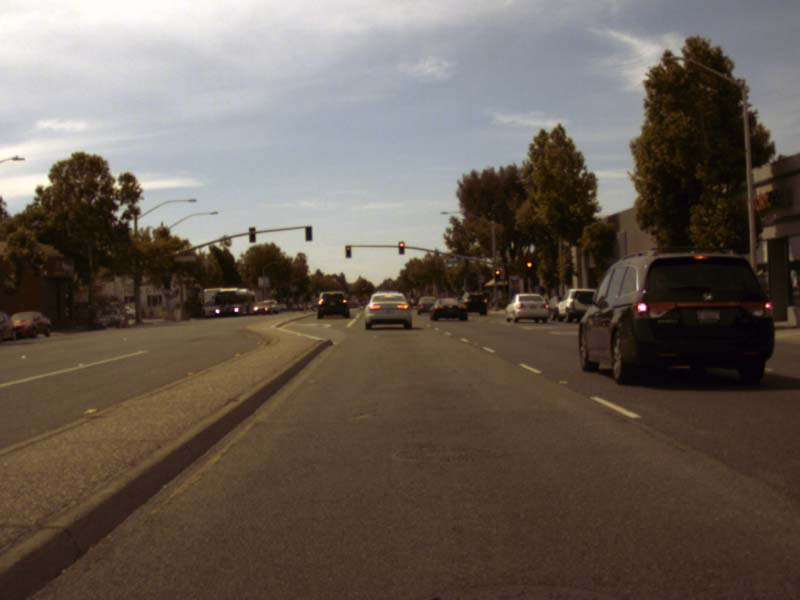Red: (525, 260, 532, 275), (398, 241, 404, 254), (345, 245, 351, 257), (494, 269, 500, 280)
